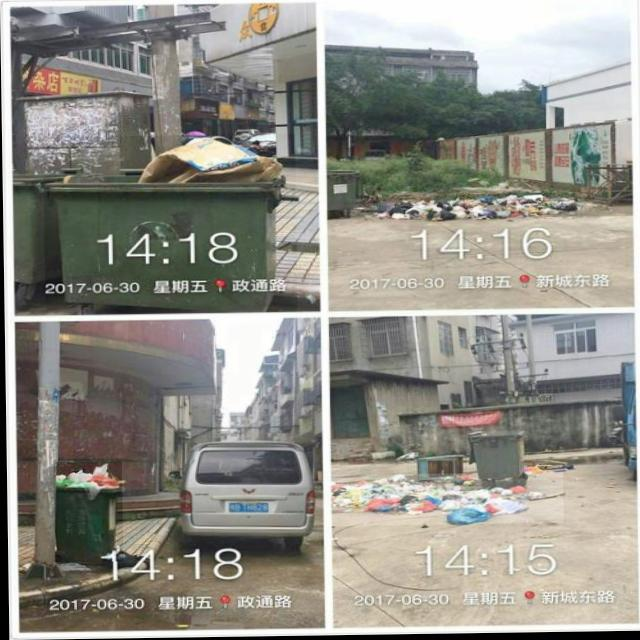garbage: (328, 473, 563, 527), (357, 194, 576, 224)
garbage_bin: (465, 432, 524, 480), (325, 170, 361, 212)
overflow: (43, 135, 297, 313), (53, 462, 122, 563)
